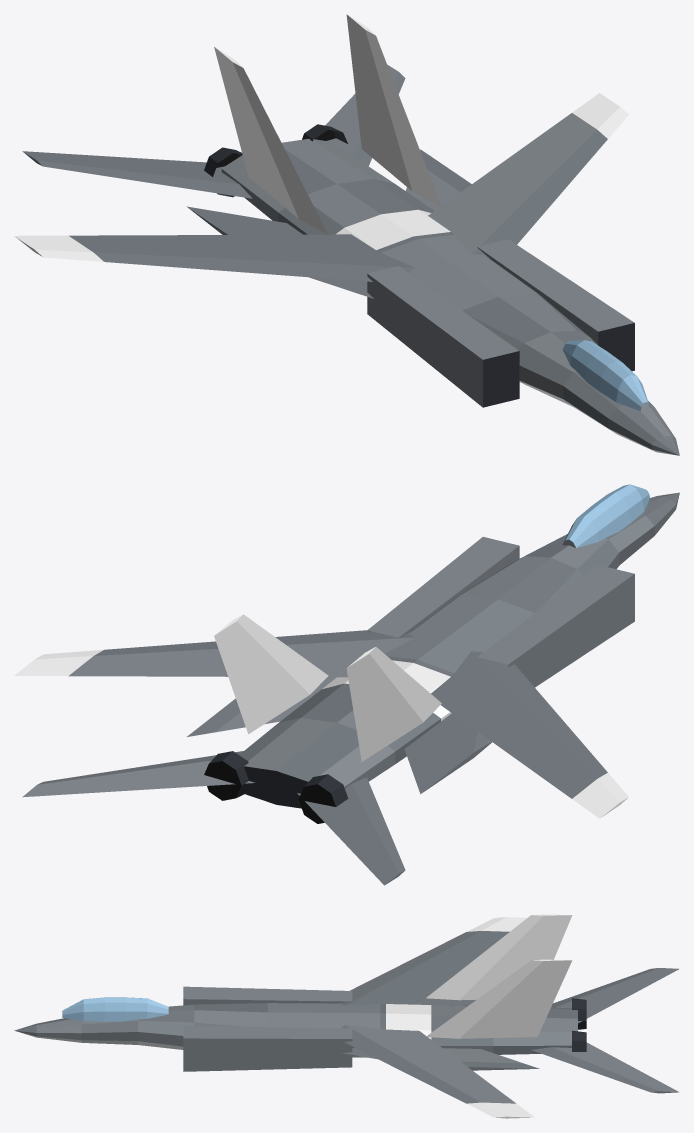
The picture shows the model from 3 angles, top to bottom: view 1: azimuth 30°, elevation 25°; view 2: azimuth 150°, elevation 25°; view 3: azimuth 270°, elevation 25°; orthographic projection. The views are drawn at different scales.
Visible parts, largest first — view 1: body; view 2: body; view 3: body.
Part boxes in pixels (x1,y1,x2,y2): body: (14,14,679,455); body: (14,484,679,885); body: (14,914,679,1118).
Bounding box in the file's own units: 16 × 4.15 × 22.56.
